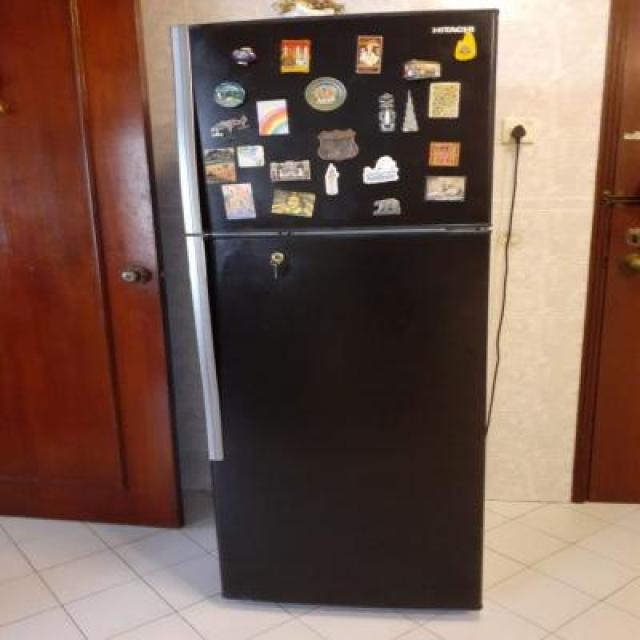refrigerator: (168, 7, 502, 615)
